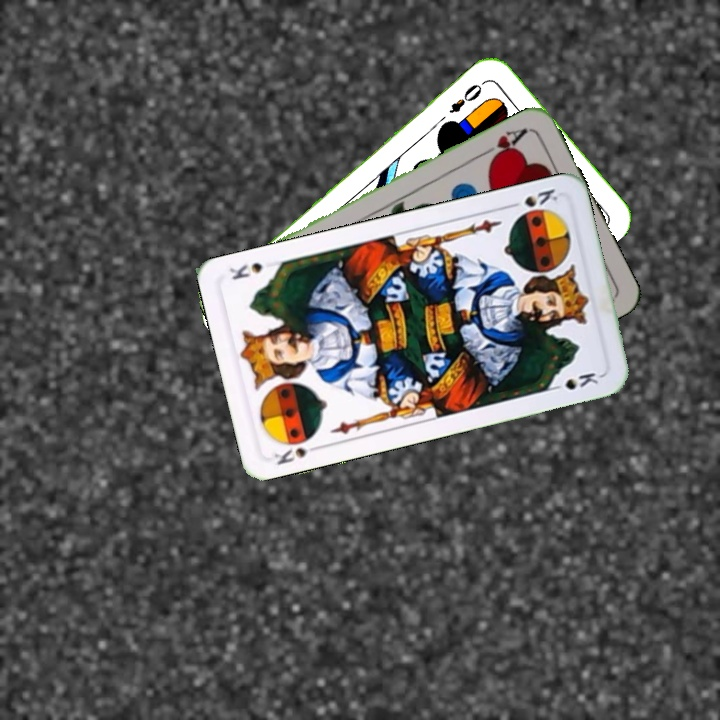EO: (445, 76, 489, 116)
HA: (476, 124, 531, 165)
SK: (503, 184, 560, 211), (270, 441, 324, 468)
